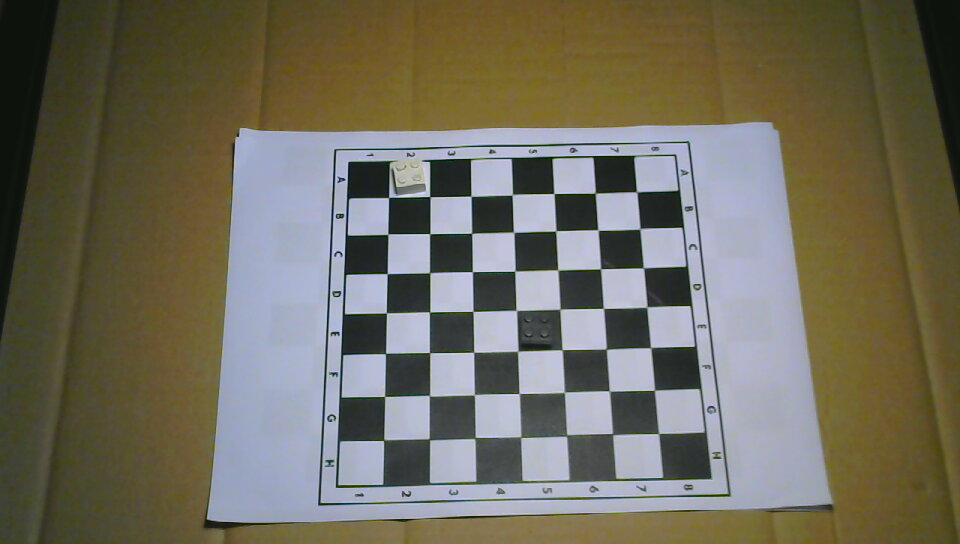bp: (519, 312, 554, 349)
wp: (391, 157, 427, 195)
